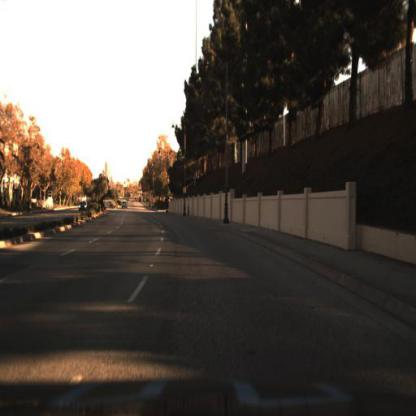car: (76, 199, 91, 217), (120, 197, 132, 215)
